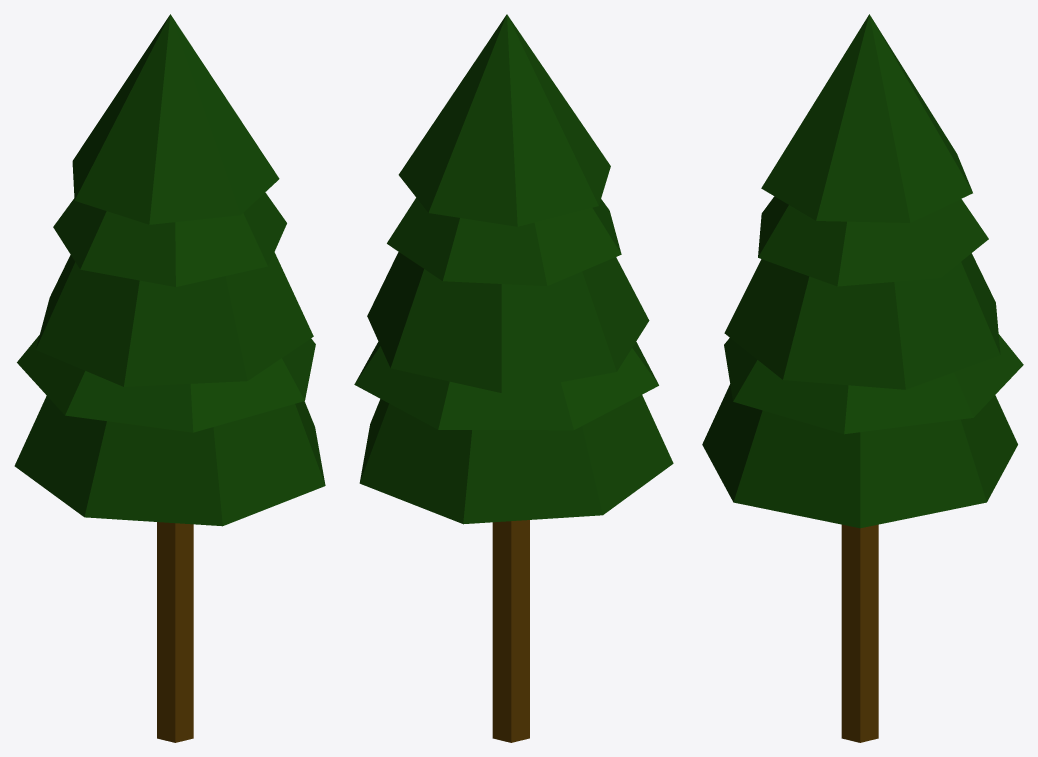
File: Denneboom low poly 3.fbx
The picture shows the model from 3 angles, left to right: view 1: azimuth 30°, elevation 25°; view 2: azimuth 150°, elevation 25°; view 3: azimuth 270°, elevation 25°; orthographic projection.
Parts seen in each view (by area): view 1: pCylinder37; view 2: pCylinder37; view 3: pCylinder37.
Boxes of the visible parts, <box> form: pCylinder37: <box>14,14,325,742</box>; pCylinder37: <box>354,14,673,742</box>; pCylinder37: <box>702,14,1023,742</box>.
Bounding box in the file's own units: 14.55 × 37.13 × 15.03.
